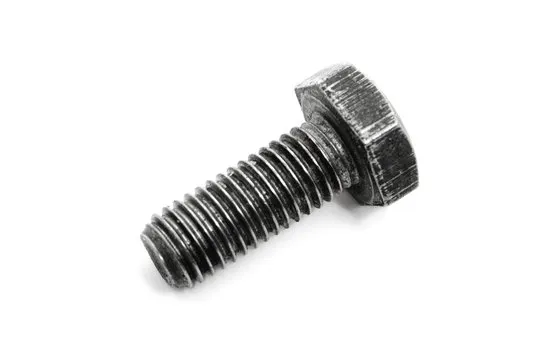tornillo: (200, 137, 362, 209)
